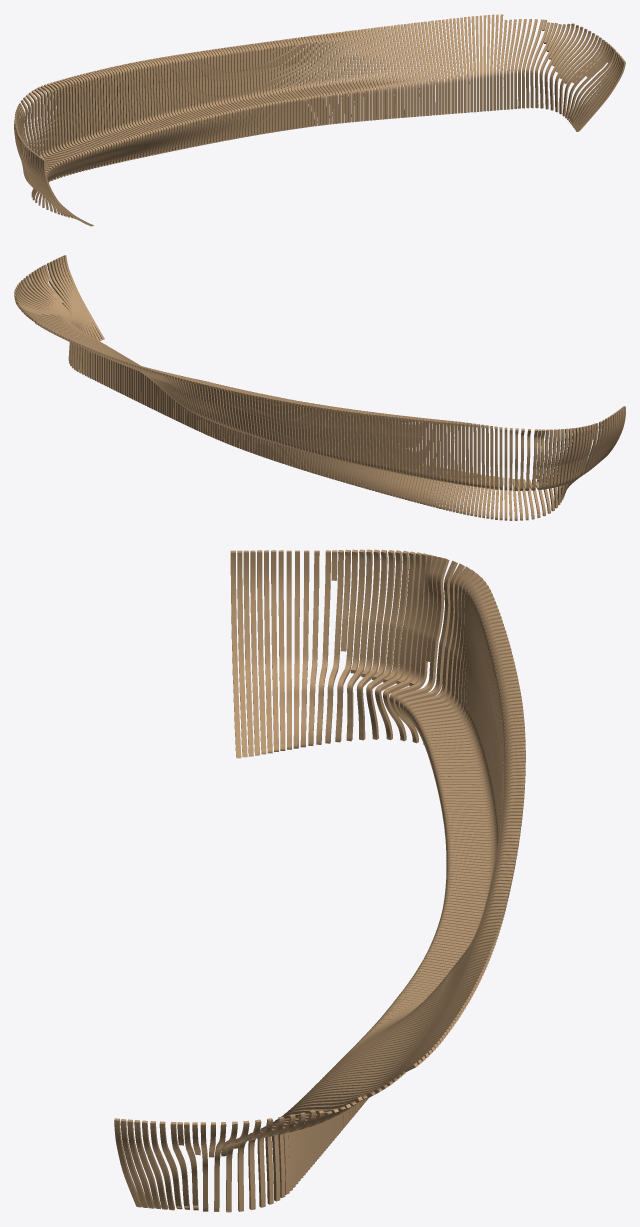
Rendered from bench_A.glb.
3 renders of one model, top to bottom at view 1: azimuth 30°, elevation 25°; view 2: azimuth 150°, elevation 25°; view 3: azimuth 270°, elevation 25°, orthographic. The views are drawn at different scales.
Parts seen in each view (by area): view 1: bench_A; view 2: bench_A; view 3: bench_A.
Part boxes in pixels (bbox=[...]): bench_A: bbox=[14, 14, 625, 226]; bench_A: bbox=[14, 255, 625, 520]; bench_A: bbox=[114, 549, 525, 1212].
Bounding box in the file's own units: 10.18 × 1.6 × 3.25.
